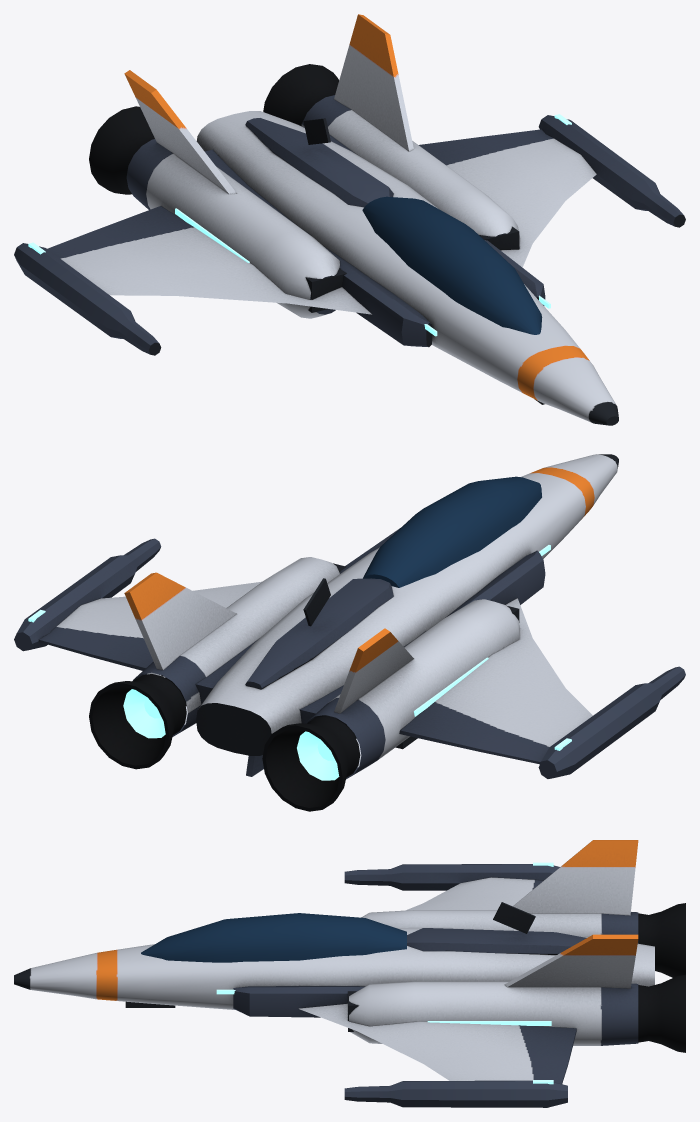
Rendered from Nave_Humana.fbx.
3 views of the same model, one above another, from view 1: azimuth 30°, elevation 25°; view 2: azimuth 150°, elevation 25°; view 3: azimuth 270°, elevation 25° (orthographic). The views are drawn at different scales.
Visible parts, largest first — view 1: Nave_Casco, Nave_Cristal, Nave_Neon; view 2: Nave_Casco, Nave_Cristal, Nave_Neon; view 3: Nave_Casco, Nave_Cristal, Nave_Neon.
Part boxes in pixels (bbox=[...]): Nave_Casco: bbox=[14, 14, 685, 425]; Nave_Cristal: bbox=[362, 196, 542, 334]; Nave_Neon: bbox=[28, 114, 571, 336]; Nave_Casco: bbox=[14, 454, 685, 811]; Nave_Cristal: bbox=[363, 476, 541, 587]; Nave_Neon: bbox=[28, 545, 571, 780]; Nave_Casco: bbox=[14, 840, 685, 1107]; Nave_Cristal: bbox=[141, 913, 406, 962]; Nave_Neon: bbox=[216, 862, 553, 1084].
Size of the model in its own units: 3.67 by 1.03 by 4.55.
3 materials, 1 textured.
